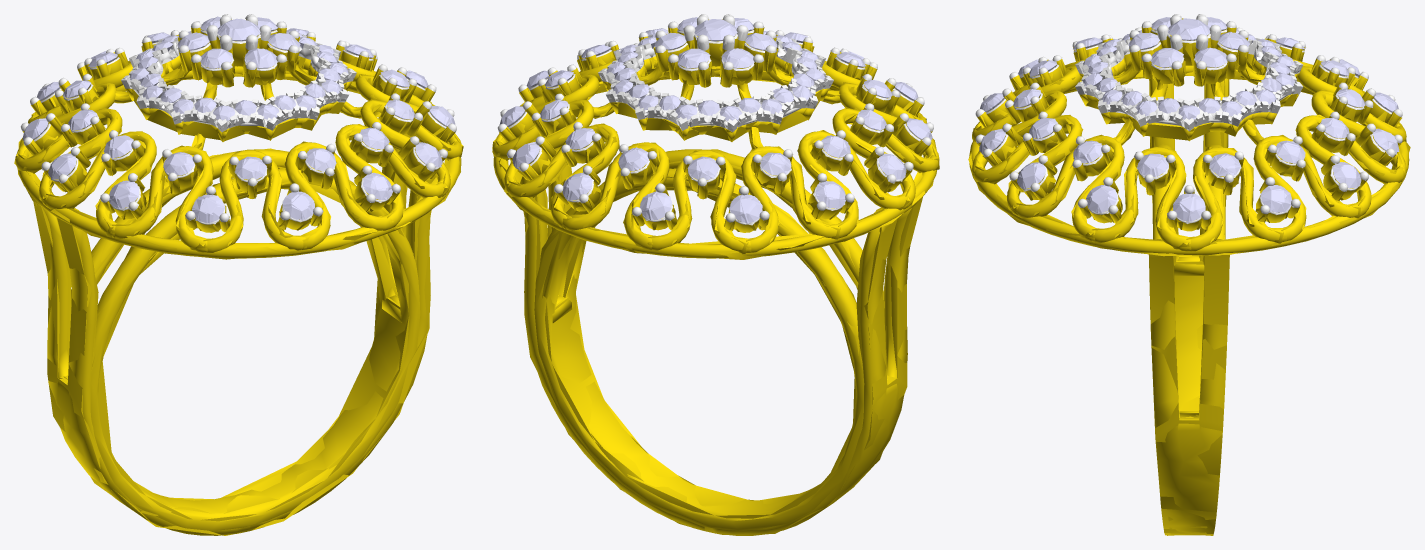
File: DLR-D000599281.glb
3 views of the same model, side by side, from view 1: azimuth 30°, elevation 25°; view 2: azimuth 150°, elevation 25°; view 3: azimuth 270°, elevation 25° (orthographic).
Parts seen in each view (by area): view 1: highPolyMesh, lowPolyMesh; view 2: highPolyMesh, lowPolyMesh; view 3: highPolyMesh, lowPolyMesh.
Boxes of the visible parts, x1=… form: highPolyMesh: x1=15, y1=14, x2=461, y2=535; lowPolyMesh: x1=14, y1=14, x2=463, y2=535; highPolyMesh: x1=492, y1=14, x2=939, y2=535; lowPolyMesh: x1=492, y1=14, x2=939, y2=534; highPolyMesh: x1=969, y1=14, x2=1409, y2=535; lowPolyMesh: x1=968, y1=14, x2=1410, y2=535.
Size of the model in its own units: 0.0219 by 0.0267 by 0.0217.
